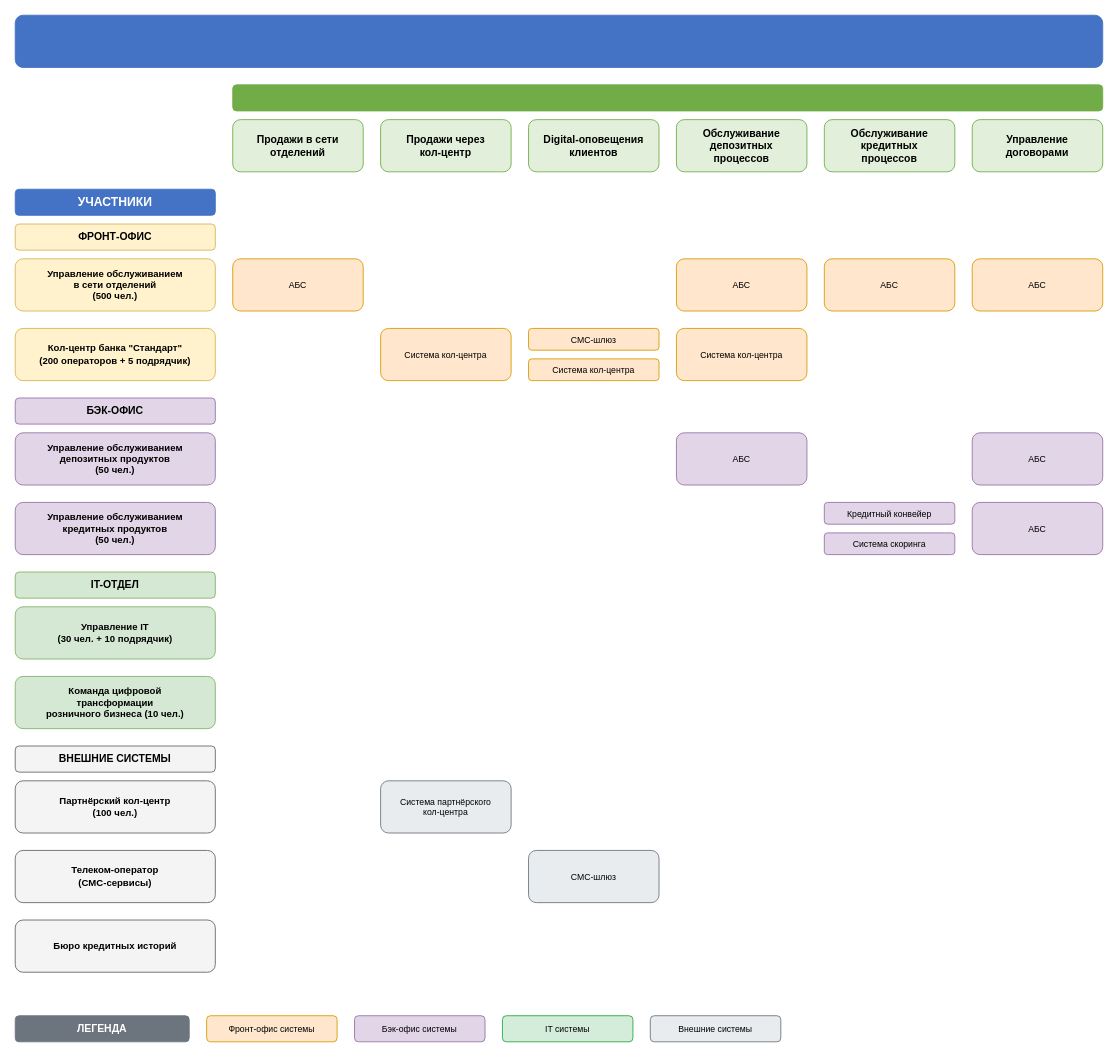
Some shapes in this 1118 by 1057 pixel diagram are drawn without their labels. The centre of each missing label's shape, as x and y in pixels:
БИЗНЕС-ВОЗМОЖНОСТИ: point 667,97
Карта IT-ландшафта банка "Стандарт": point 558,40
